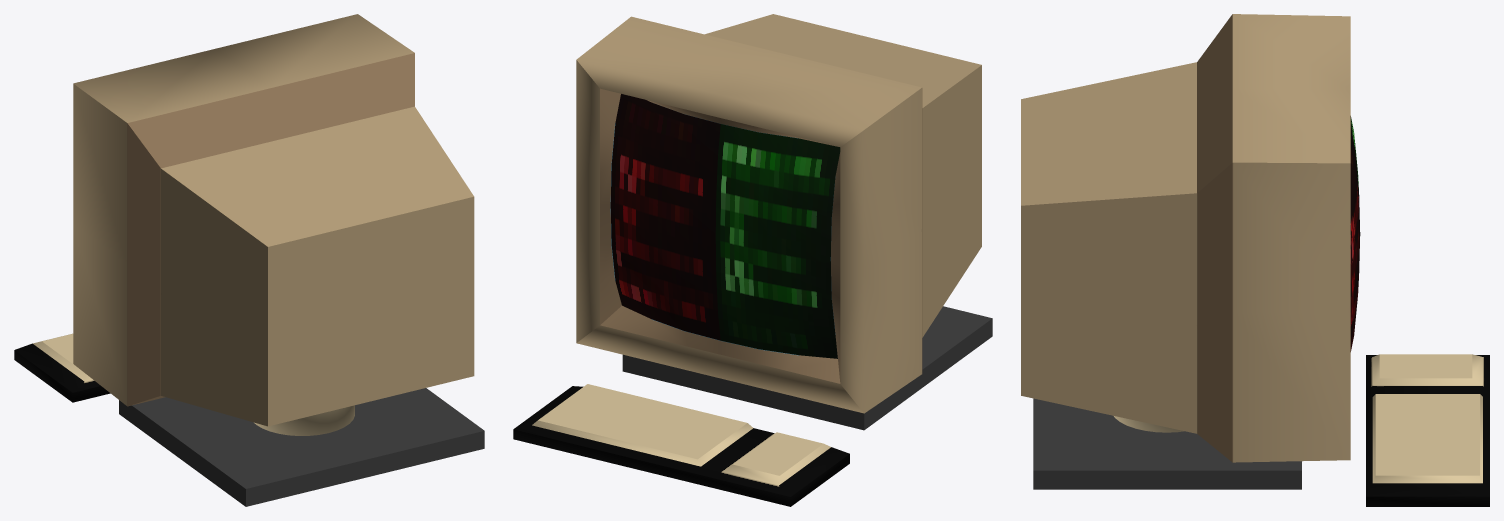
Rendered from macintosh.fbx.
The picture shows the model from 3 angles, left to right: view 1: azimuth 30°, elevation 25°; view 2: azimuth 150°, elevation 25°; view 3: azimuth 270°, elevation 25°; orthographic projection. The views are drawn at different scales.
Visible parts, largest first — view 1: mesh_OldPC; view 2: mesh_OldPC; view 3: mesh_OldPC.
Part boxes in pixels (box(x1,y1,x2,y2)): mesh_OldPC: box(14, 14, 484, 506); mesh_OldPC: box(513, 14, 992, 506); mesh_OldPC: box(1021, 14, 1489, 506).
Bounding box in the file's own units: 0.6 × 0.6533 × 0.8.
2 materials, 2 textured.
